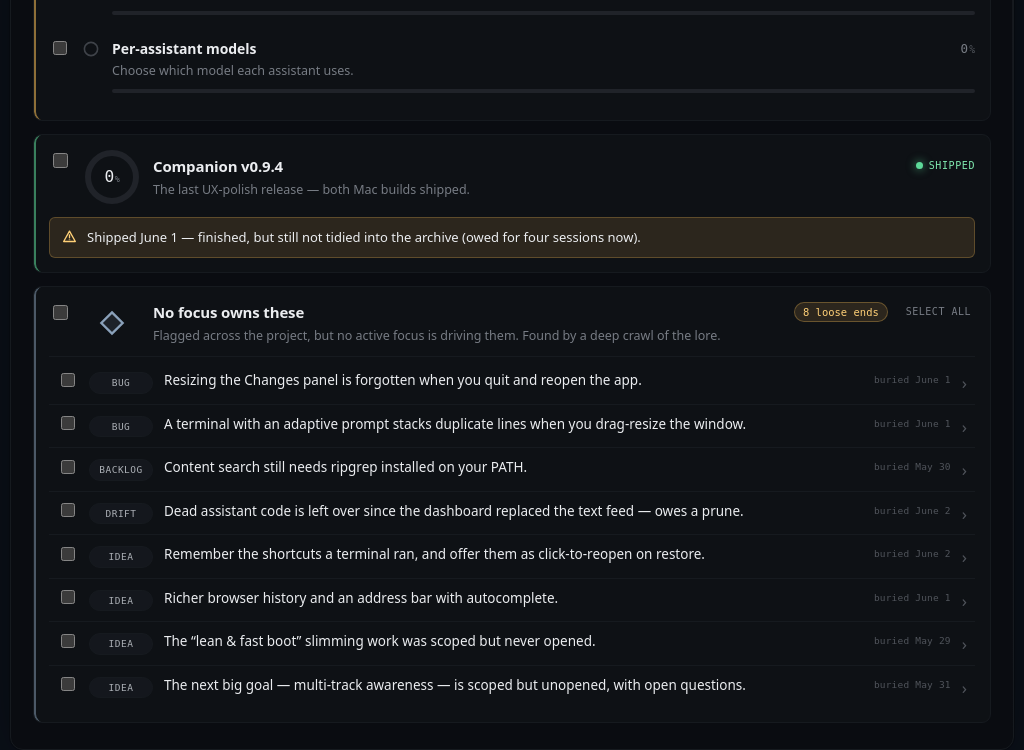
Consolidate appears only when 2+ loose-ends are selected
(page scrolled)
Click the 2nd checkbox with test id "item-check".
click(68, 380)  # box [61,373,75,387]
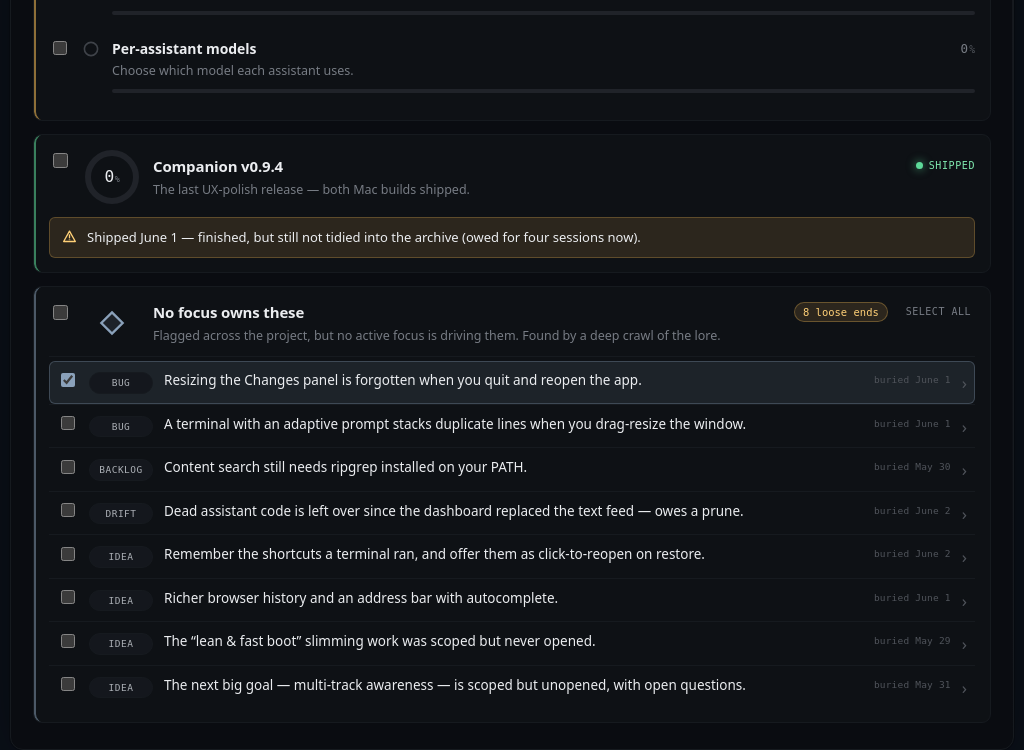
Click the 3rd checkbox with test id "item-check".
click(68, 424)  # box [61,416,75,430]
(page scrolled)
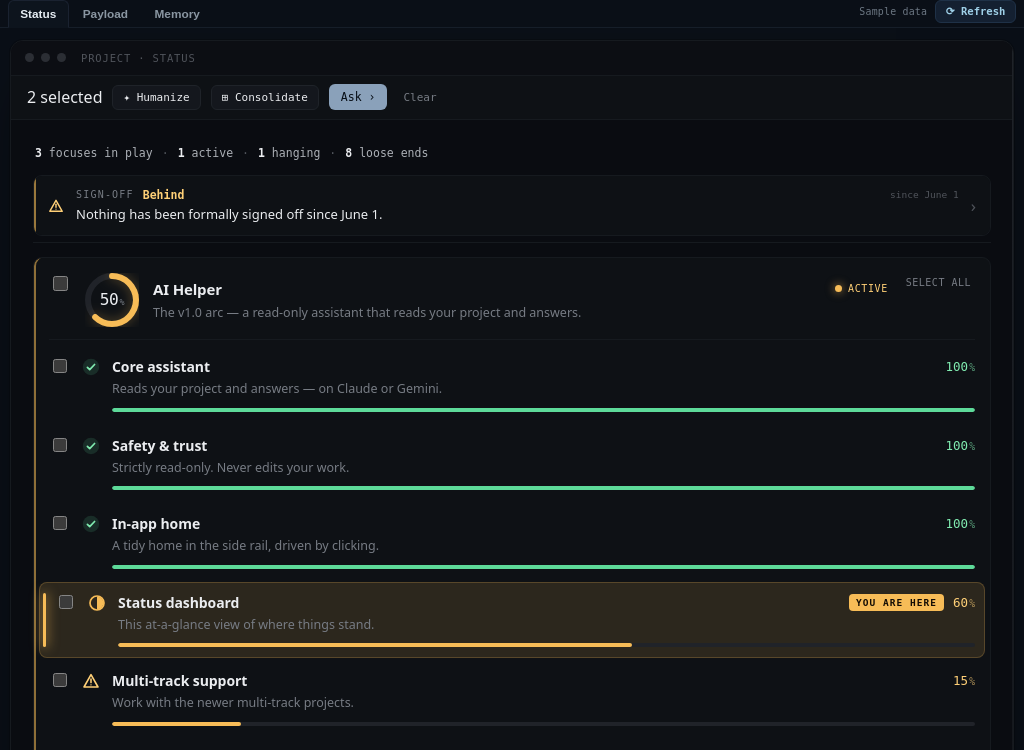
Now the button with test id "op-consolidate" is shown, box [211,85,319,110]
